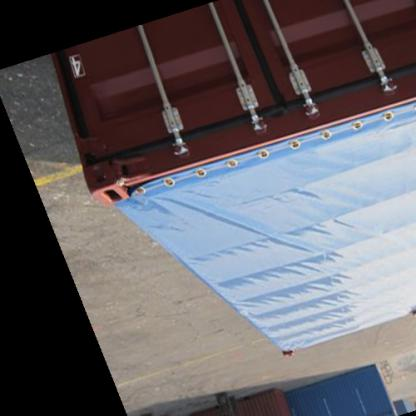Damage: (86, 150, 150, 190), (261, 106, 293, 128)
